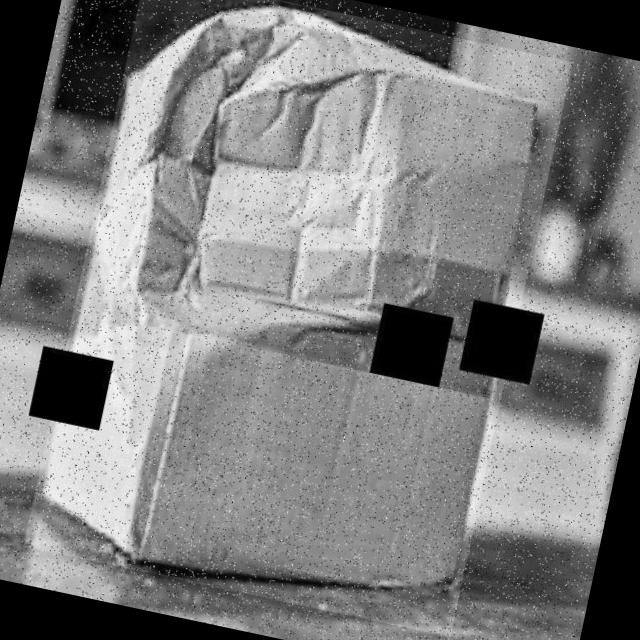box: (22, 0, 572, 637)
